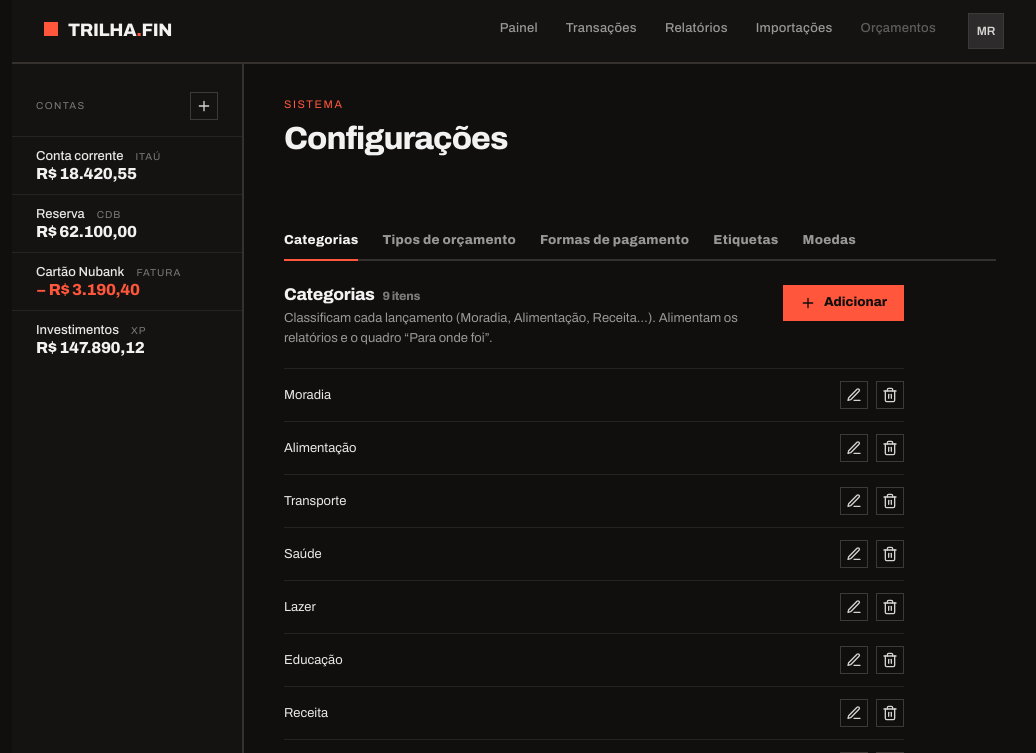
SettingsScreen › troca de aba e mostra as formas de pagamento
Click the tab "Formas de pagamento" at (615, 241), box x1=540 y1=221 x2=689 y2=261
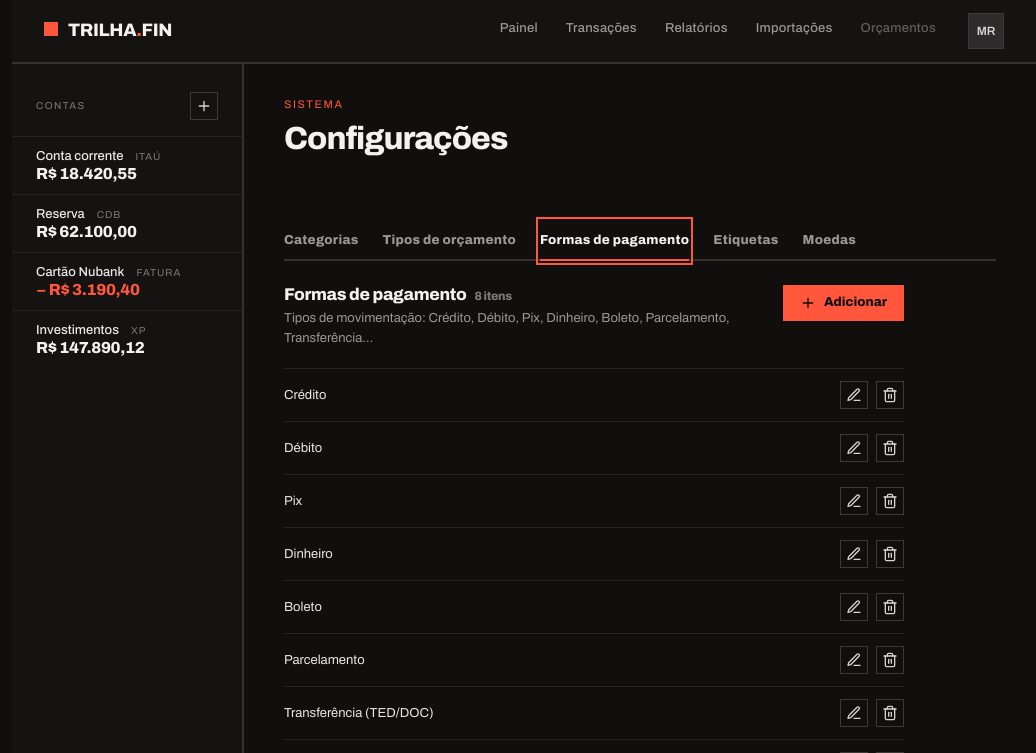
Expected: the text "Pix" is shown, x1=284 y1=494 x2=302 y2=508
Expected: the text "Boleto" is shown, x1=284 y1=600 x2=322 y2=614
